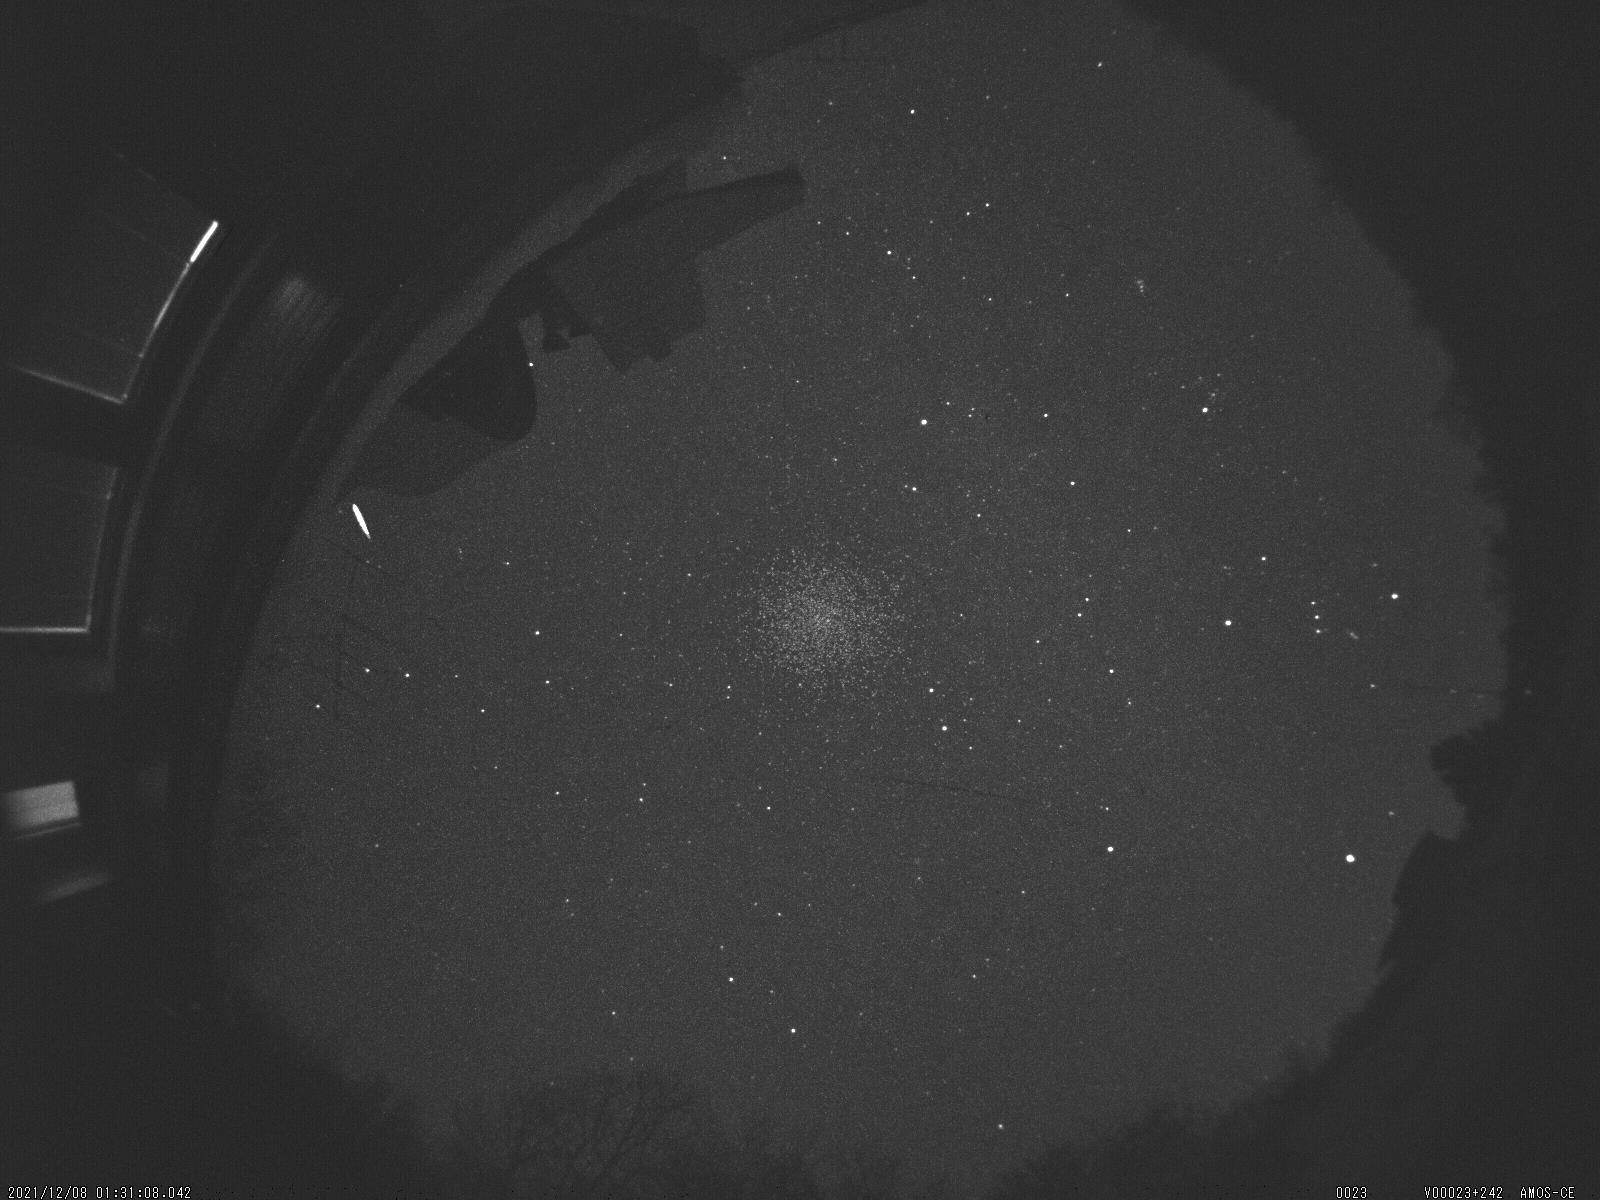Meteor: (345, 487, 378, 555)
